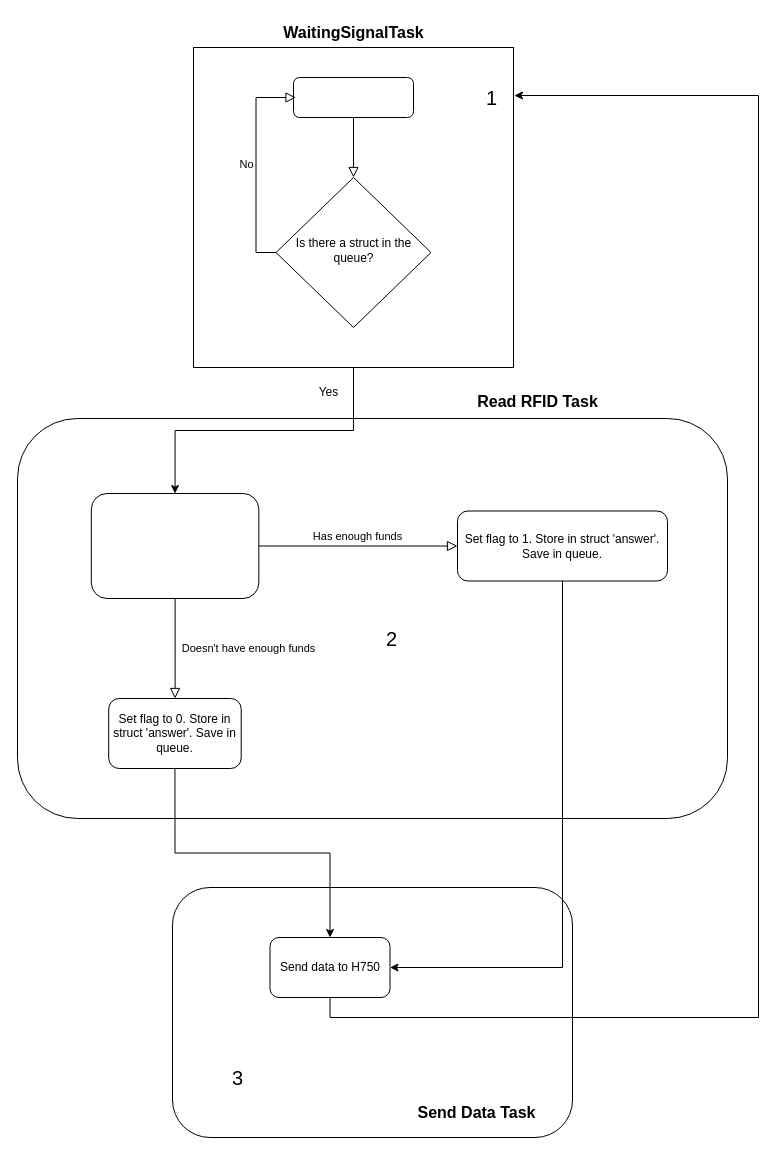
Image size: 784x1155. Some labels were removed from this diagram. Each missing label, with the centre of its shape:
Store data. Read RFID. Update user's amount: the point at 174,545
Wait data struct from H750DK: the point at 353,97
